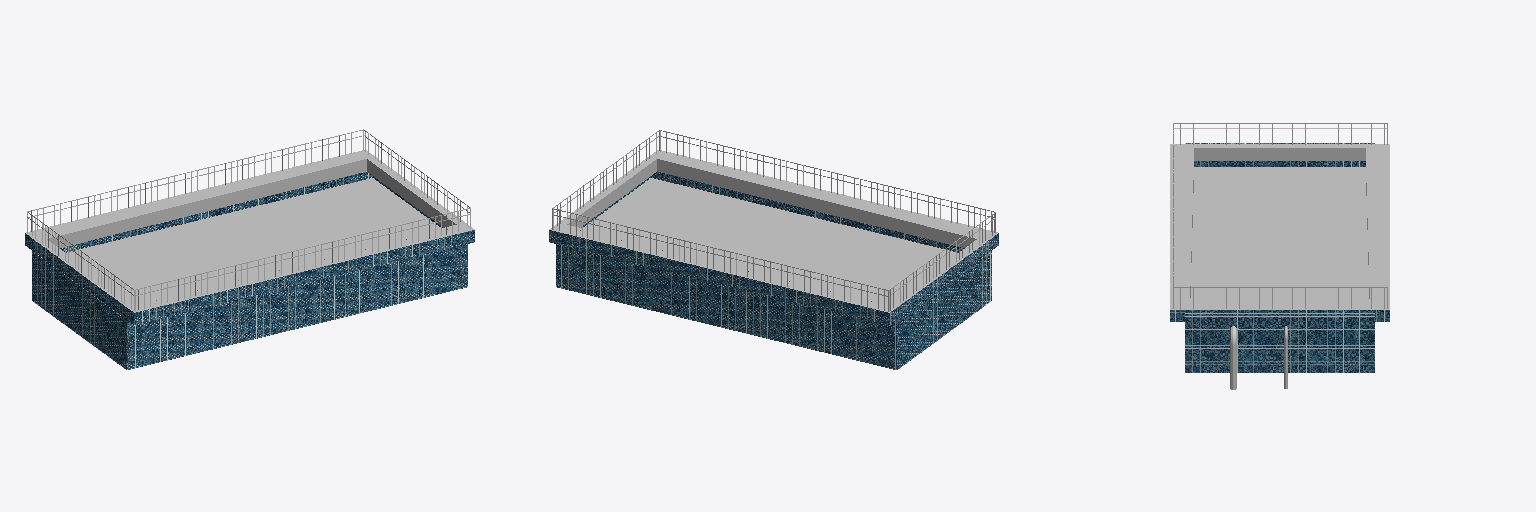
The picture shows the model from 3 angles: view 1: azimuth 30°, elevation 25°; view 2: azimuth 150°, elevation 25°; view 3: azimuth 270°, elevation 25°; orthographic projection.
Parts seen in each view (by area): view 1: ___, __, ___.2, ___.1; view 2: ___, __, ___.1, ___.2; view 3: __, ___, ___.1, ___.2.
Boxes of the visible parts, <box> form: ___: <box>32,155,467,369</box>; __: <box>66,178,440,301</box>; ___.2: <box>127,225,474,324</box>; ___.1: <box>25,150,371,249</box>; ___: <box>556,155,991,369</box>; __: <box>583,178,957,301</box>; ___.1: <box>549,225,896,324</box>; ___.2: <box>652,150,998,249</box>; __: <box>1190,167,1369,388</box>; ___: <box>1185,143,1374,372</box>; ___.1: <box>1375,144,1389,321</box>; ___.2: <box>1170,144,1184,321</box>.
Size of the model in its own units: 1239 by 320 by 665.
Materials: 4 (1 with a texture image).